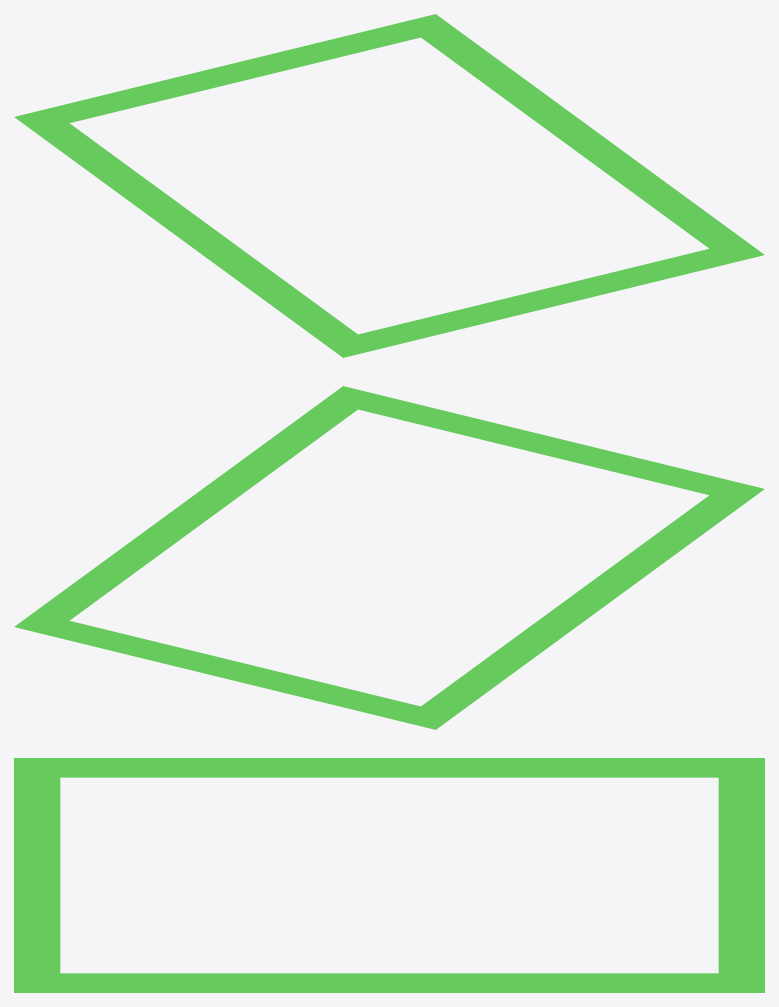
The model's file is border_green.fbx.
3 renders of one model, top to bottom at view 1: azimuth 30°, elevation 25°; view 2: azimuth 150°, elevation 25°; view 3: azimuth 270°, elevation 25°, orthographic. The views are drawn at different scales.
Parts seen in each view (by area): view 1: border_green; view 2: border_green; view 3: border_green.
Boxes of the visible parts, bbox=[...] form: border_green: bbox=[14, 14, 764, 357]; border_green: bbox=[14, 386, 764, 729]; border_green: bbox=[14, 758, 764, 992].
Size of the model in its own units: 437 by 0 by 590.
